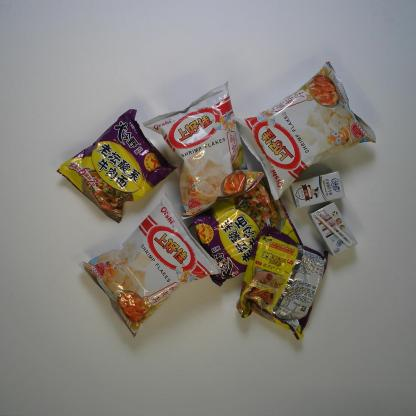Instant Noodles: (55, 108, 180, 224), (192, 175, 304, 288), (235, 225, 329, 342)
Milk: (309, 202, 358, 258), (290, 170, 346, 209)
Puffed Food: (77, 192, 222, 341), (237, 60, 378, 202), (142, 80, 265, 221)
